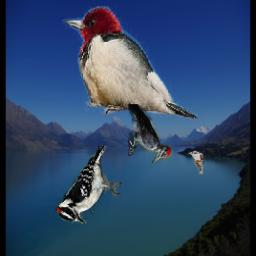Cuckoo: (188, 152, 203, 175)
Woodpecker: (62, 6, 198, 118), (56, 146, 124, 223), (129, 104, 172, 163)
